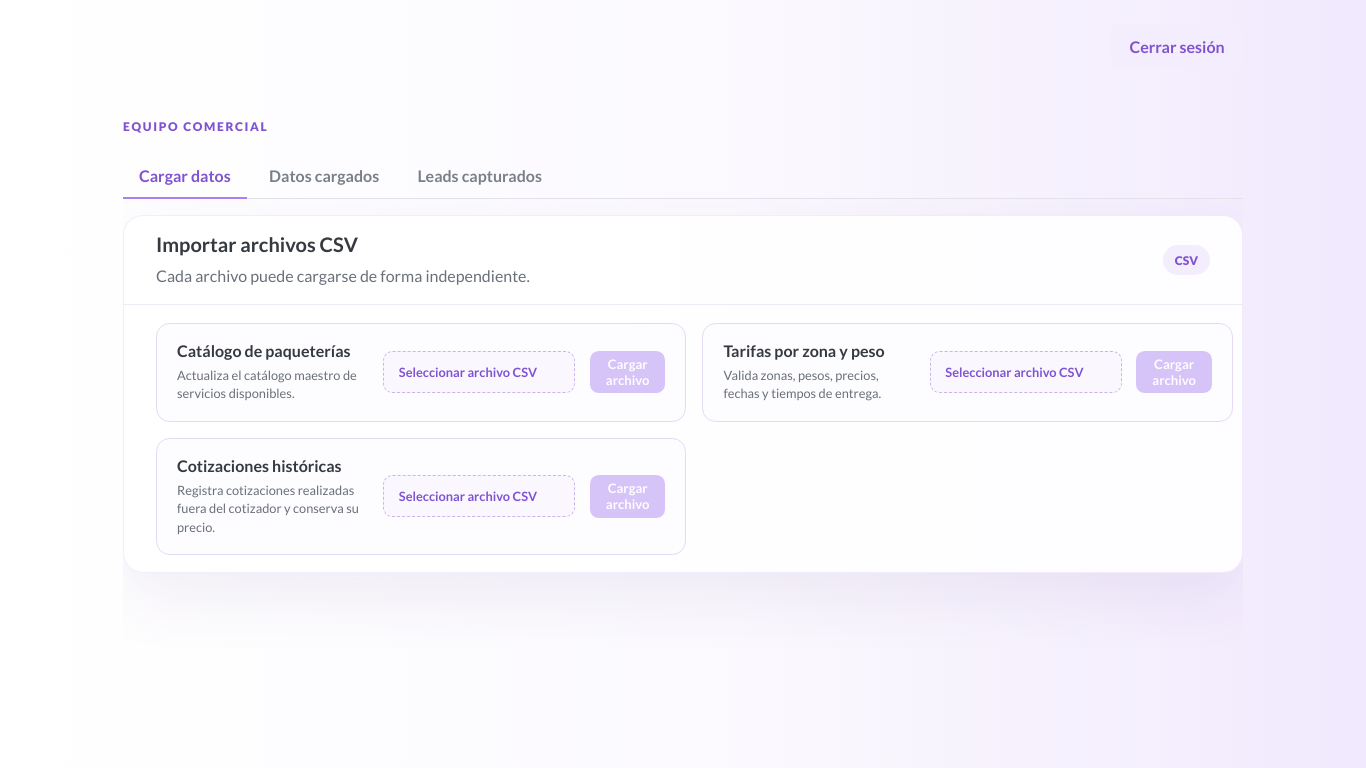
Test: App › opens a lead quote history in a modal
Click the button "Leads capturados": (480, 175) [402,153,558,198]
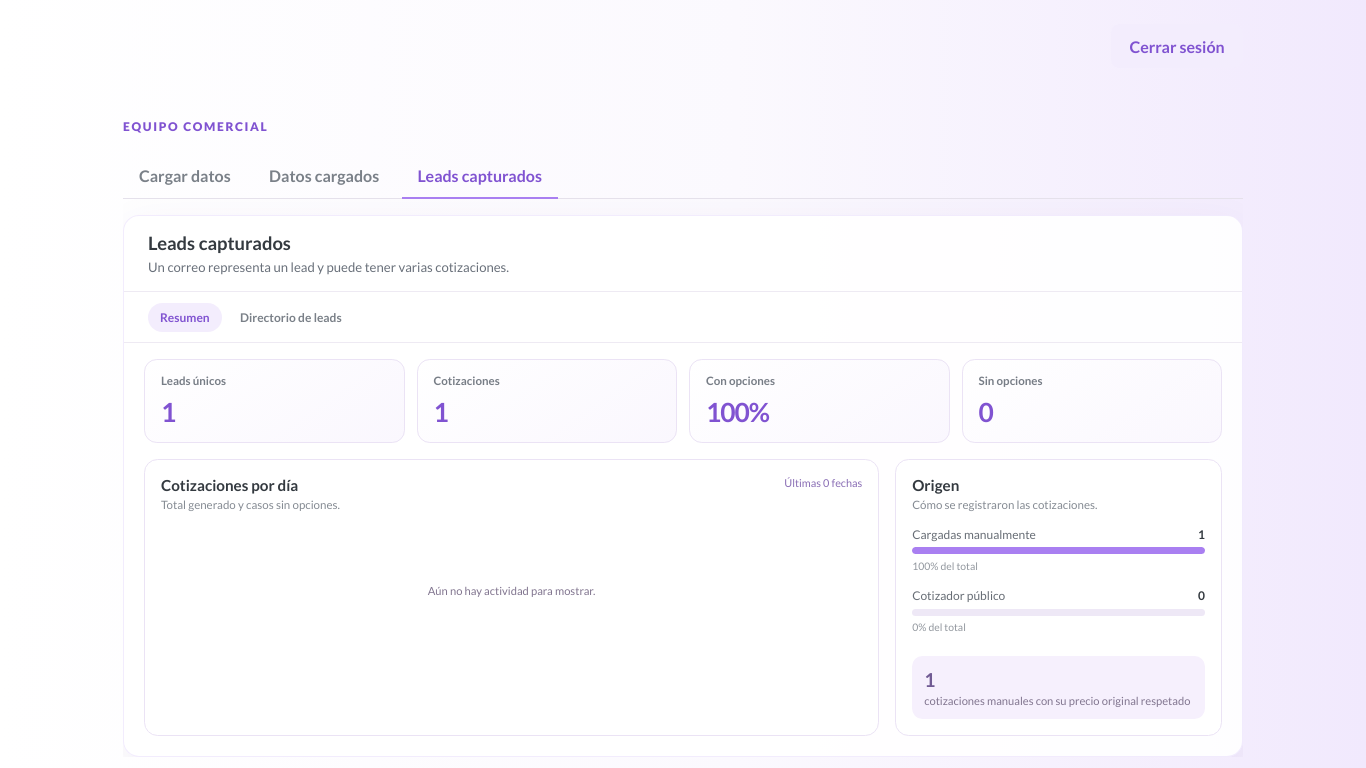
Click the button "Directorio de leads": (291, 317) [228,303,354,332]
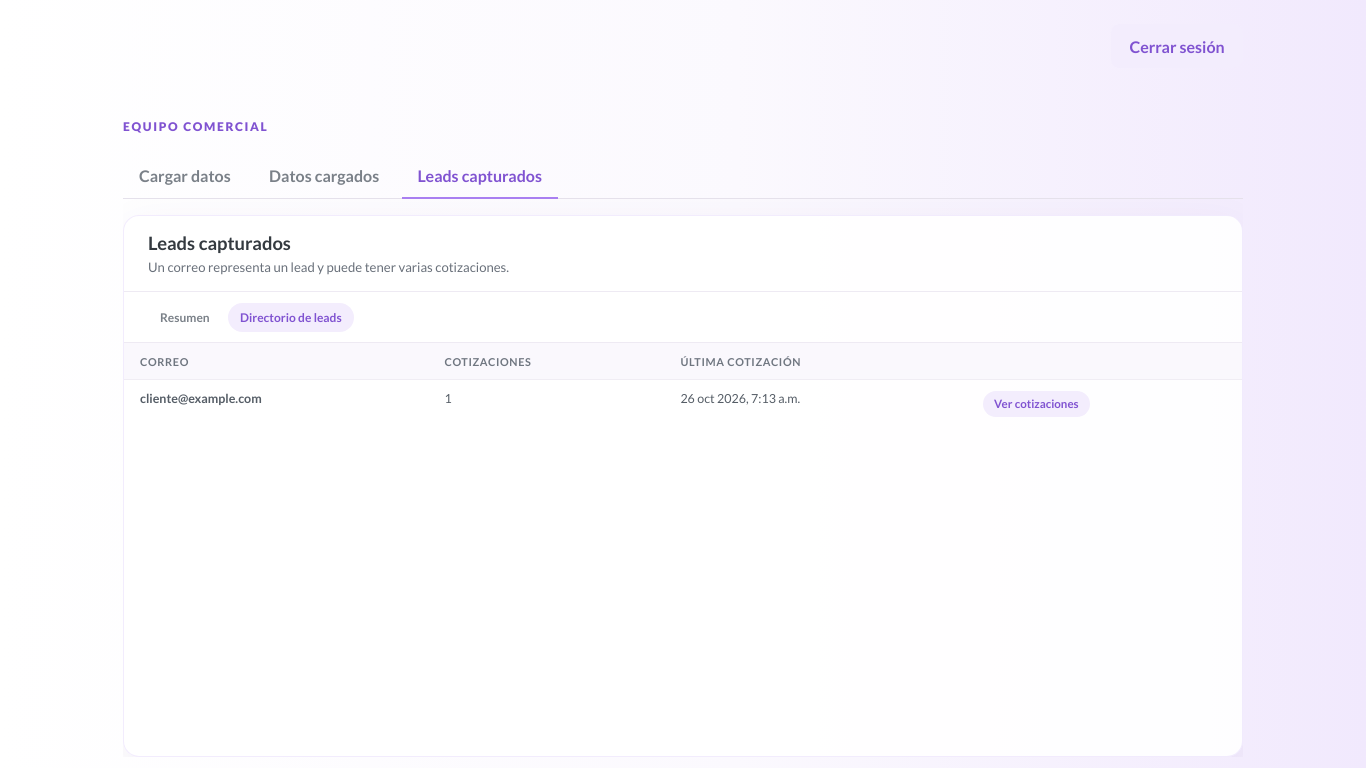
Click the button "Ver cotizaciones": (1036, 404) [983,391,1090,417]
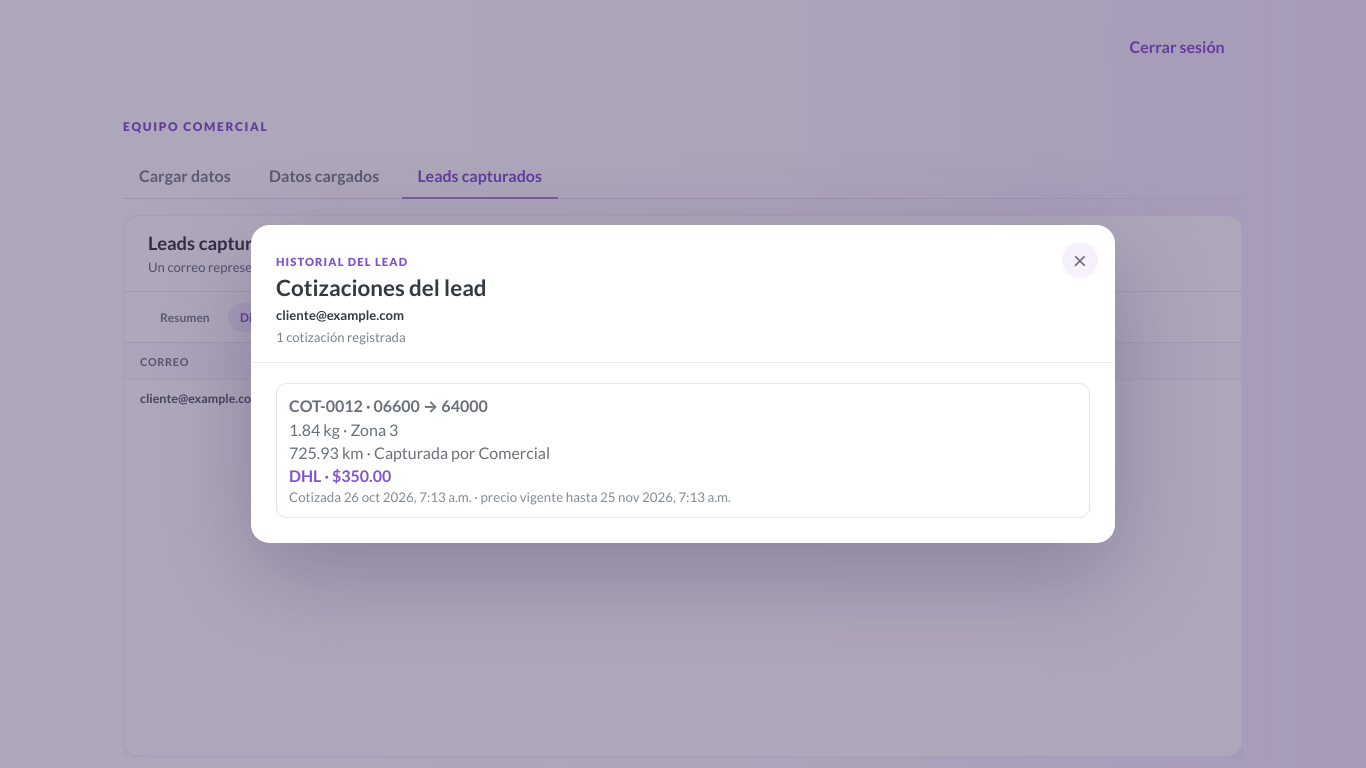
Now the dialog shows "Cotizaciones del lead", box [276,274,487,301]
Now the dialog shows "cliente@example.com", box [276,307,404,323]
Now the dialog shows "06600 → 64000", box [251,225,1115,543]
Click the button named "Cerrar historial de cotizaciones": (1080, 260) [1062,242,1098,278]
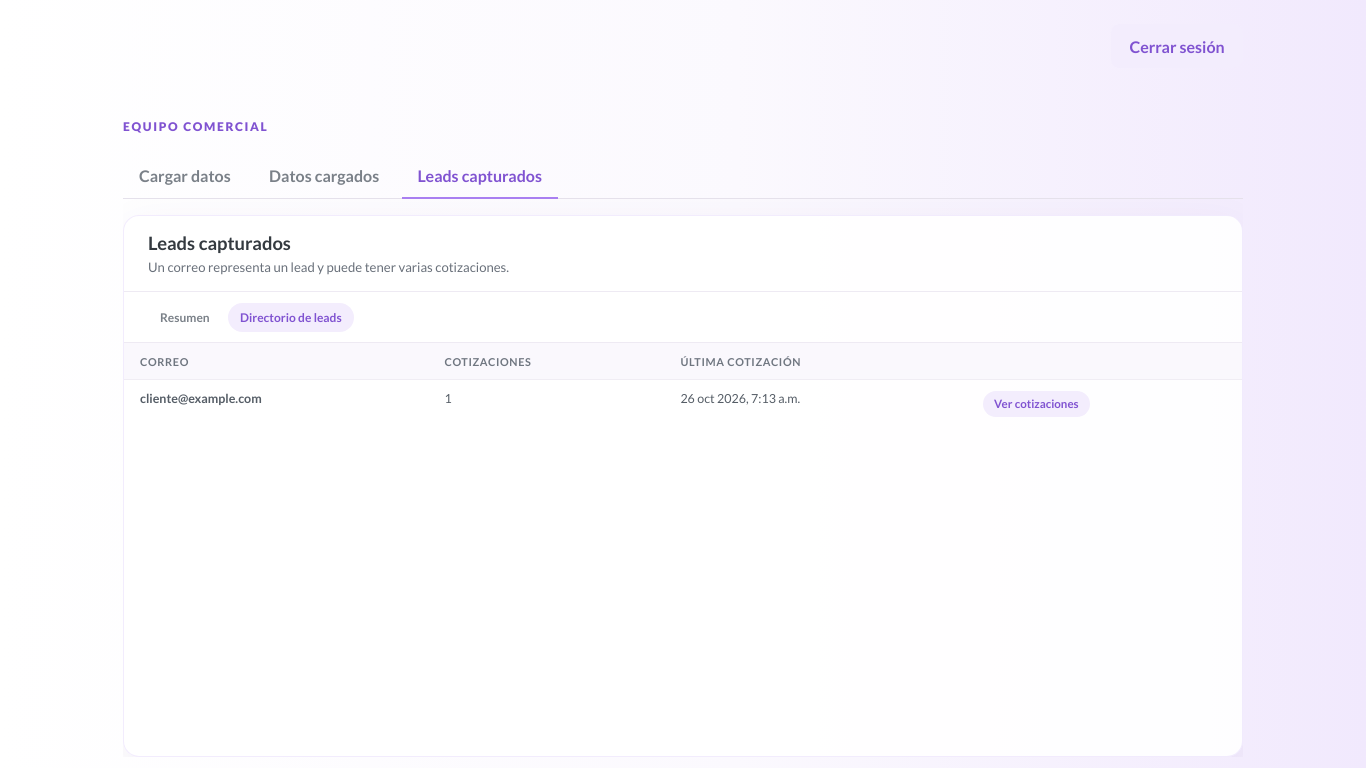
Now the dialog is gone
